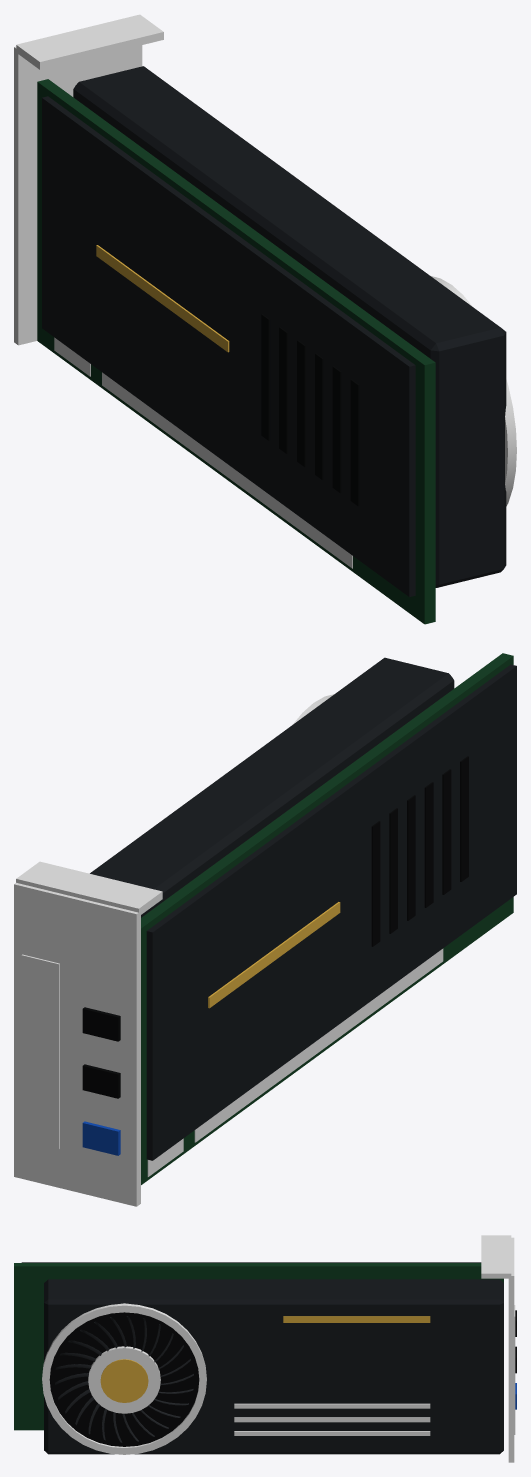
File: hw_gpu_quadro_p400.glb
The picture shows the model from 3 angles, top to bottom: view 1: azimuth 30°, elevation 25°; view 2: azimuth 150°, elevation 25°; view 3: azimuth 270°, elevation 25°; orthographic projection. The views are drawn at different scales.
Visible parts, largest first — view 1: Body; view 2: Body; view 3: Body, Rotor_X_0.
Part boxes in pixels (left/top/right/bottom): Body: left=14, top=14, right=516, bottom=624; Body: left=14, top=653, right=516, bottom=1206; Body: left=14, top=1235, right=516, bottom=1462; Rotor_X_0: left=55, top=1316, right=193, bottom=1442.
Size of the model in its own units: 0.0387 by 0.0831 by 0.2002.
